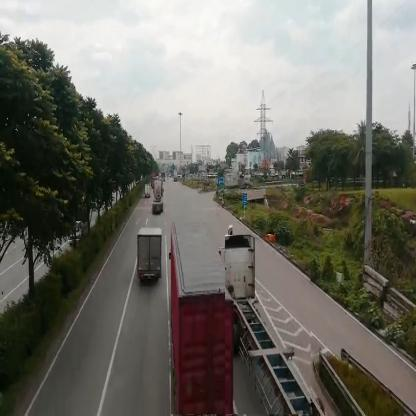container: (226, 236, 312, 416), (172, 223, 234, 416), (225, 173, 254, 191), (153, 181, 162, 219)
truck: (137, 230, 163, 280), (145, 186, 151, 199)
